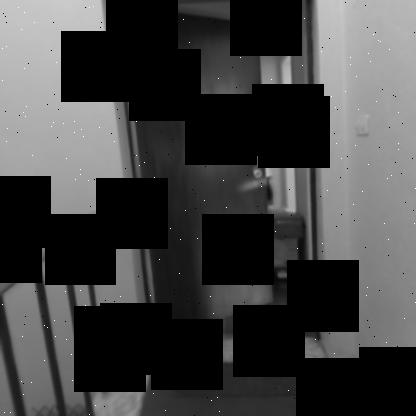Porte: (112, 0, 314, 341)
